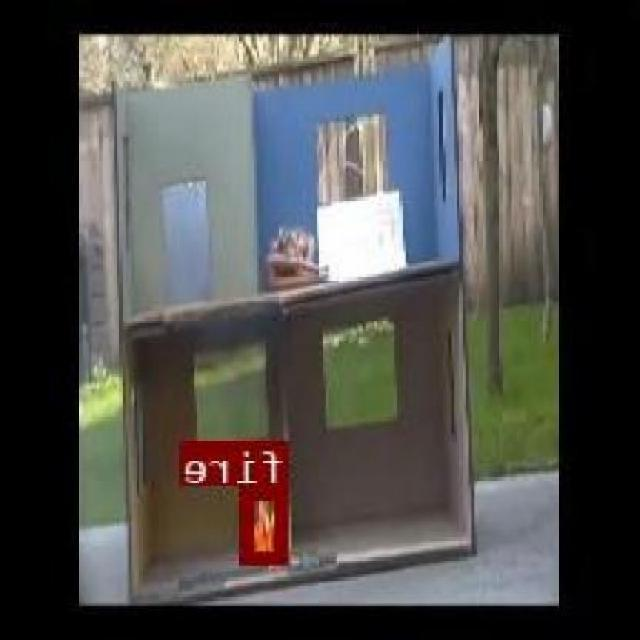Fire: (244, 483, 290, 563)
